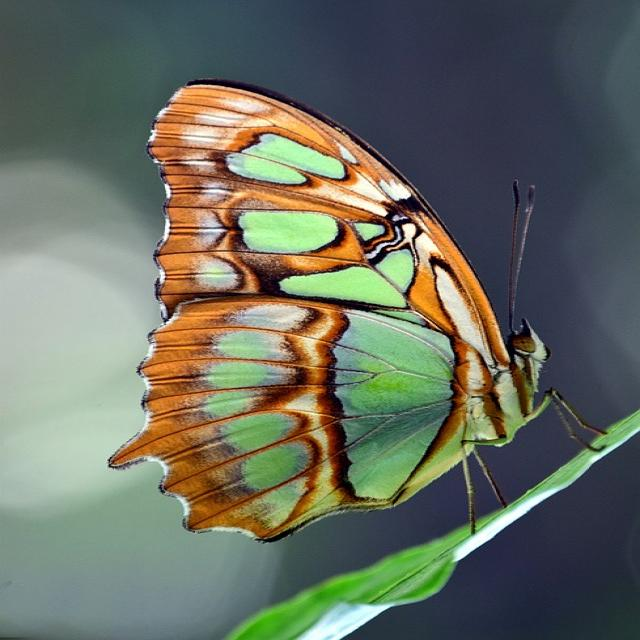butterfly: (111, 80, 546, 540)
